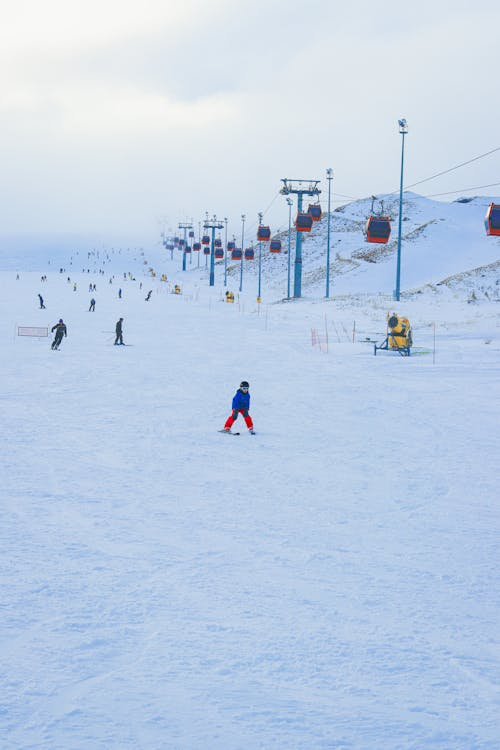skier: (215, 377, 260, 438), (109, 318, 134, 348), (48, 319, 68, 351)
